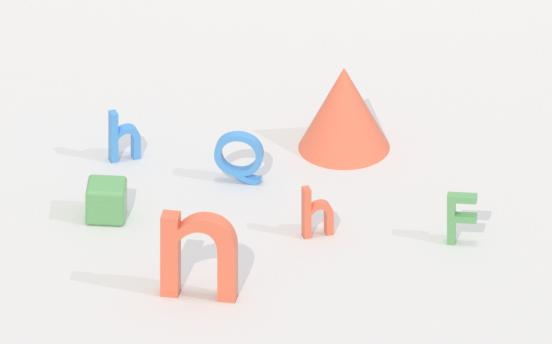F: (441, 186, 487, 249)
h: (297, 181, 340, 243), (105, 106, 149, 166)
hop: (82, 171, 132, 229)
n: (150, 205, 244, 307)
non: (292, 73, 396, 169)
q: (212, 128, 269, 188)
